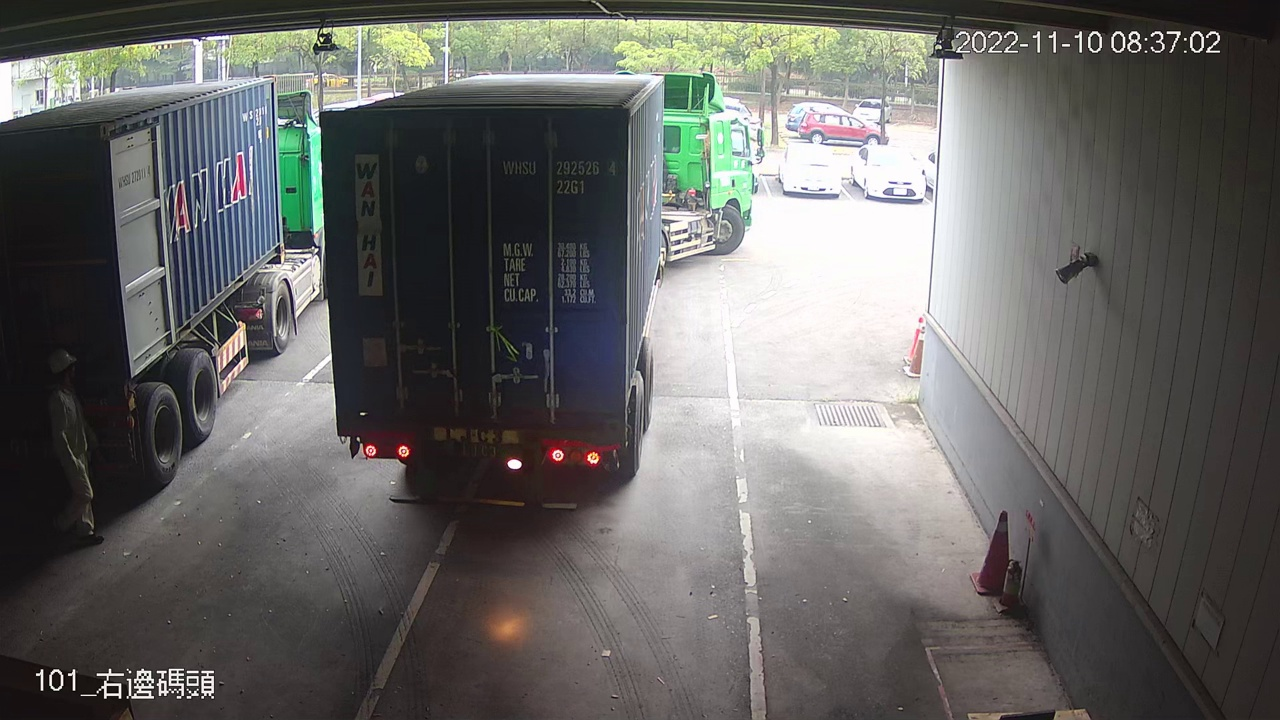container: (497, 154, 620, 197)
